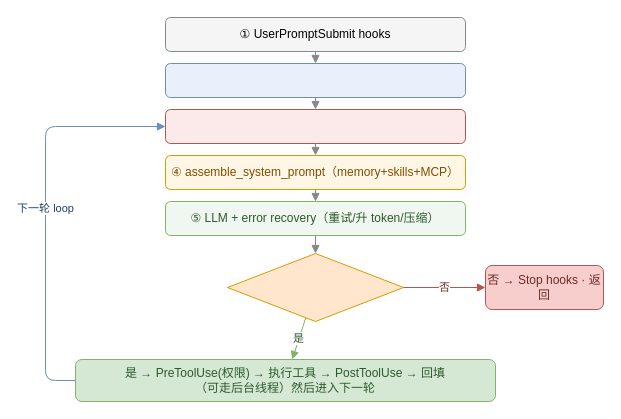
The diagram is 621 pixels wide and 419 high, and some of its shapes have lost their labels. Here are the shapes that lost their labels. From the top down, the centre of each, then its label:
At (315,80): "② 注入 cron prompt + 后台 task_notification".
At (315,126): "③ 压缩管线 budget → snip → micro".
At (315,287): "has_tool_use?".
